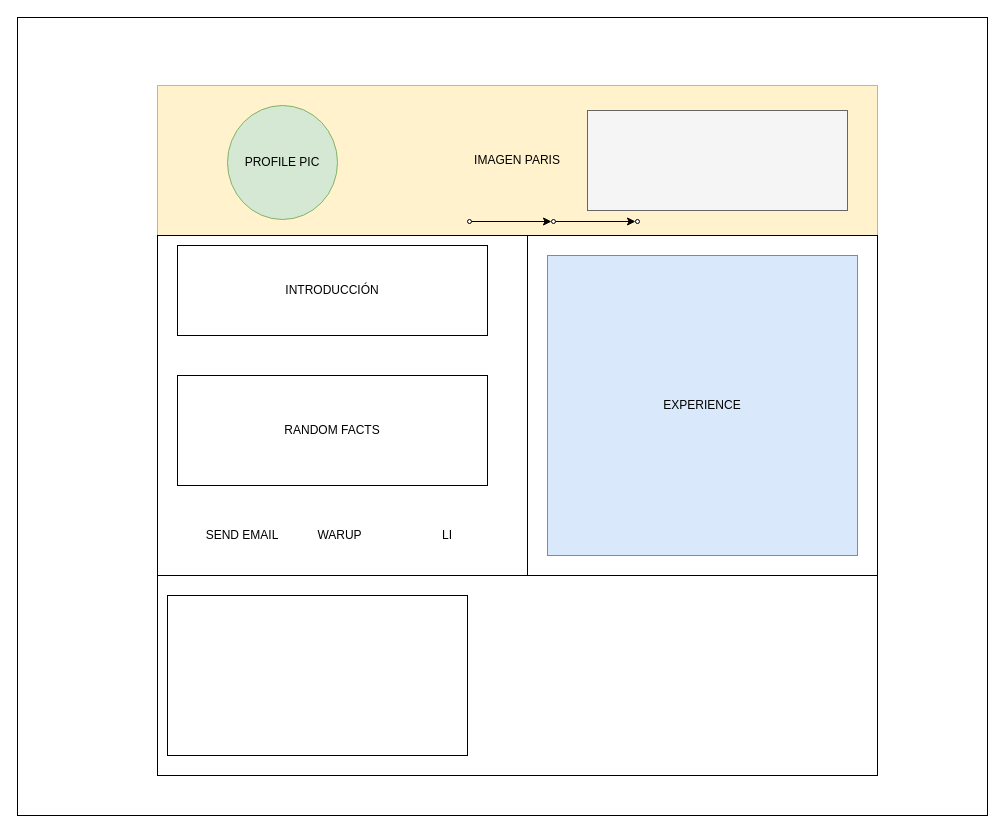
The diagram is 1005 pixels wide and 833 high, and some of its shapes have lost their labels. Here are the shapes that lost their labels. From the top down, the box of each, then its label:
(586, 110, 848, 210): NOMBRE
(166, 594, 468, 756): contact form
